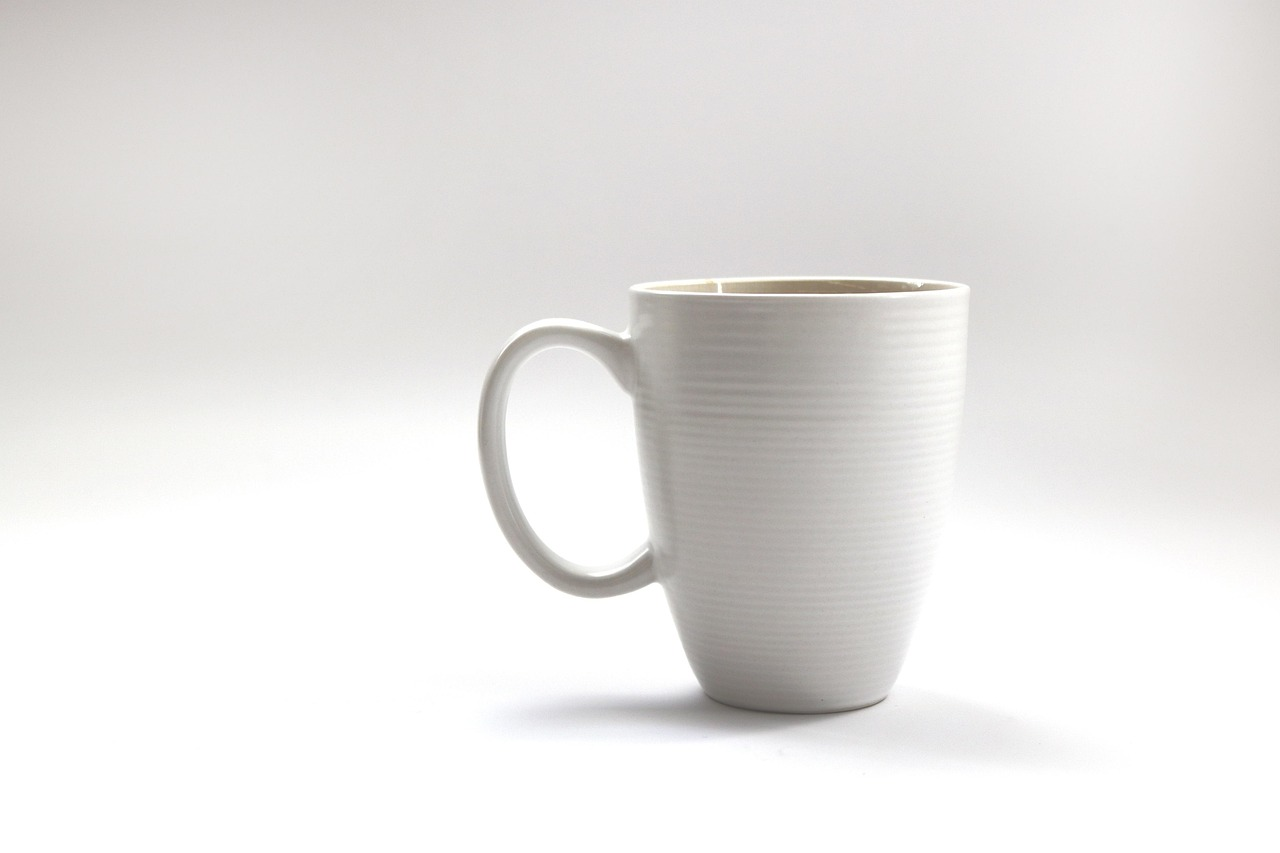mug: (440, 248, 1009, 728)
